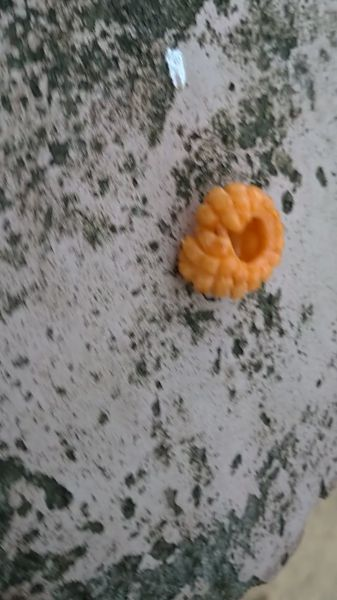eggs: (167, 171, 293, 303)
